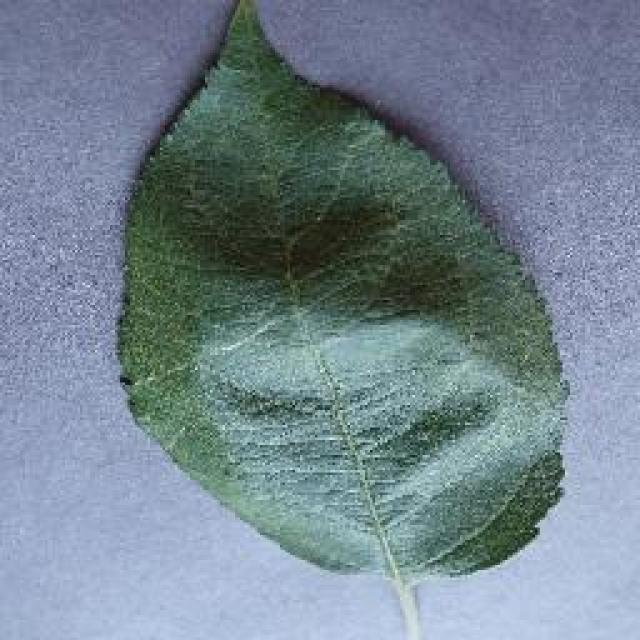apple healthy: (112, 2, 572, 588)
